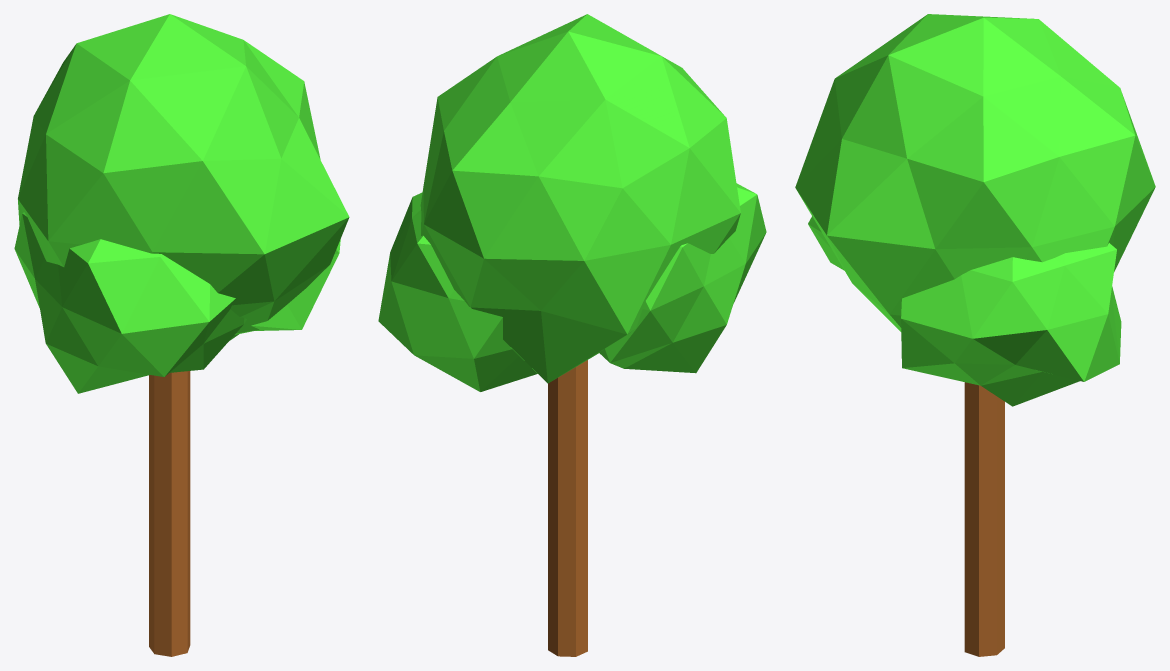
The model's file is tree2.fbx.
3 views of the same model, side by side, from view 1: azimuth 30°, elevation 25°; view 2: azimuth 150°, elevation 25°; view 3: azimuth 270°, elevation 25° (orthographic). The views are drawn at different scales.
Parts seen in each view (by area): view 1: Icosphere, Icosphere.002, Cylinder, Icosphere.001; view 2: Icosphere, Icosphere.001, Icosphere.002, Cylinder; view 3: Icosphere, Icosphere.001, Cylinder.
Part boxes in pixels (x1,y1,x2,y2): Icosphere: [18, 14, 349, 334]; Icosphere.002: [14, 212, 246, 393]; Cylinder: [149, 371, 190, 656]; Icosphere.001: [229, 239, 340, 340]; Icosphere: [420, 14, 740, 383]; Icosphere.001: [378, 192, 537, 391]; Icosphere.002: [599, 183, 766, 373]; Cylinder: [548, 360, 587, 656]; Icosphere: [795, 14, 1155, 331]; Icosphere.001: [901, 243, 1121, 406]; Cylinder: [964, 382, 1004, 656].
Size of the model in its own units: 378 by 725 by 375.
